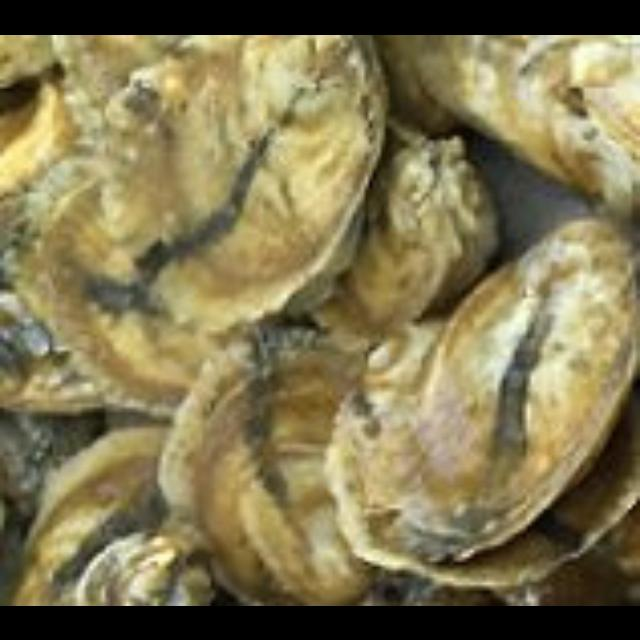Oyster-Indeterminate: (348, 219, 640, 552), (99, 34, 391, 325), (325, 350, 640, 582), (16, 157, 256, 419), (161, 326, 384, 605), (306, 127, 499, 339), (395, 34, 640, 196), (12, 426, 213, 605), (0, 198, 131, 414), (369, 34, 455, 139)
